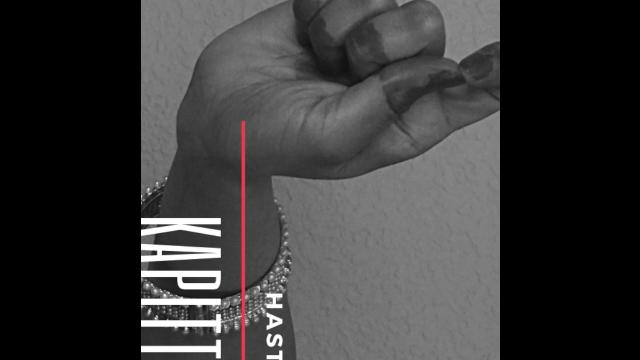kapitth: (179, 0, 497, 210)
